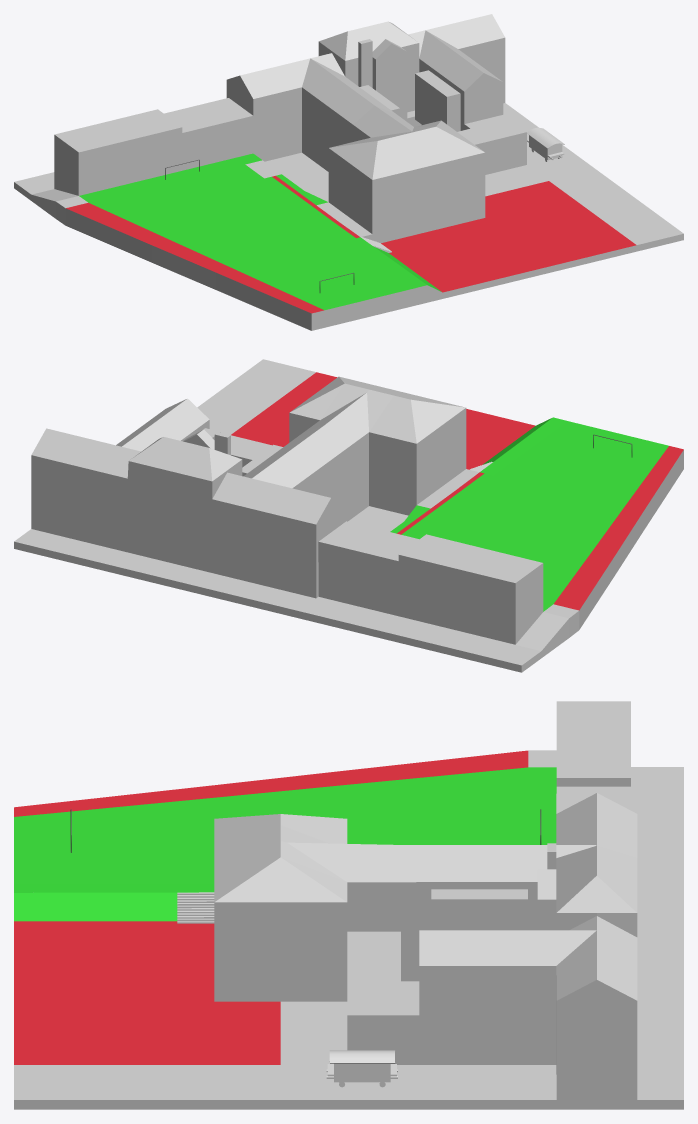
The model's file is astgasse_v0.4.glb.
3 renders of one model, top to bottom at view 1: azimuth 30°, elevation 25°; view 2: azimuth 150°, elevation 25°; view 3: azimuth 270°, elevation 25°, orthographic. The views are drawn at different scales.
Visible parts, largest first — view 1: gebäude, train; view 2: gebäude; view 3: gebäude, train, treppe_rasenplatz.
Part boxes in pixels (bbox=[...]): gebäude: bbox=[14, 14, 683, 330]; train: bbox=[527, 127, 564, 161]; gebäude: bbox=[14, 359, 683, 672]; gebäude: bbox=[14, 701, 683, 1109]; train: bbox=[326, 1050, 397, 1087]; treppe_rasenplatz: bbox=[177, 892, 214, 923].
Size of the model in its own units: 99.12 by 21.83 by 84.26.
